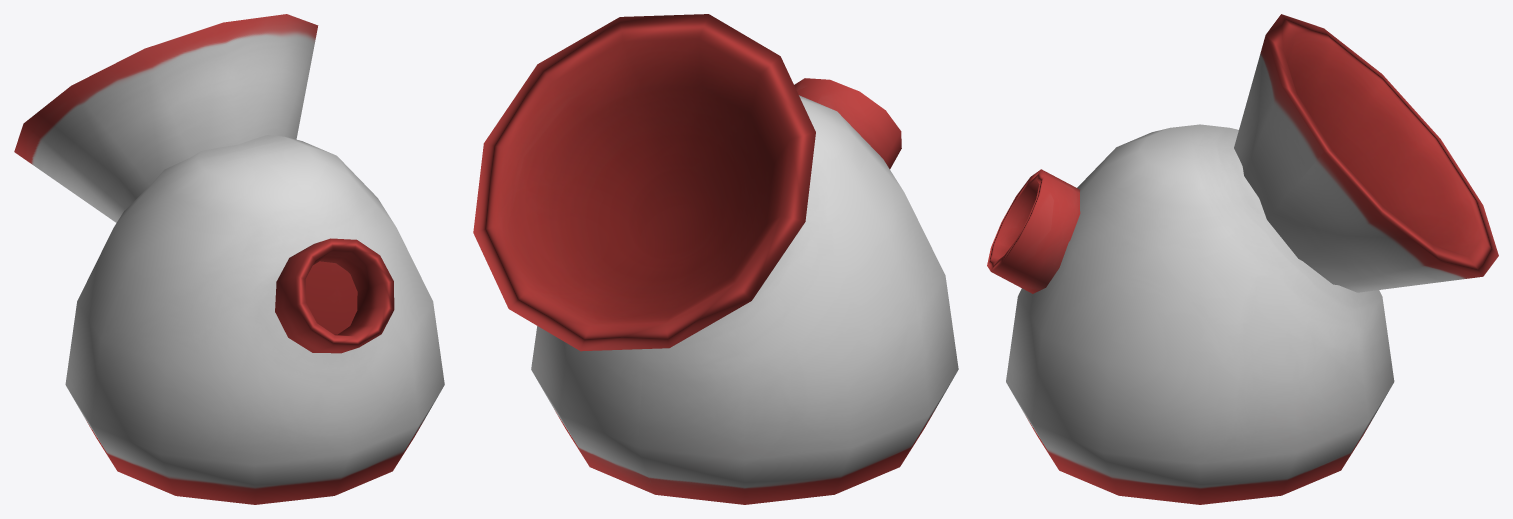
The model's file is tennisBallLauncher_model.fbx.
The picture shows the model from 3 angles, left to right: view 1: azimuth 30°, elevation 25°; view 2: azimuth 150°, elevation 25°; view 3: azimuth 270°, elevation 25°; orthographic projection. The views are drawn at different scales.
Parts seen in each view (by area): view 1: launcher_model; view 2: launcher_model; view 3: launcher_model.
Part boxes in pixels (<box>): launcher_model: <box>14,14,444,504</box>; launcher_model: <box>473,14,958,504</box>; launcher_model: <box>987,14,1498,504</box>.
Size of the model in its own units: 126 by 144 by 166.
